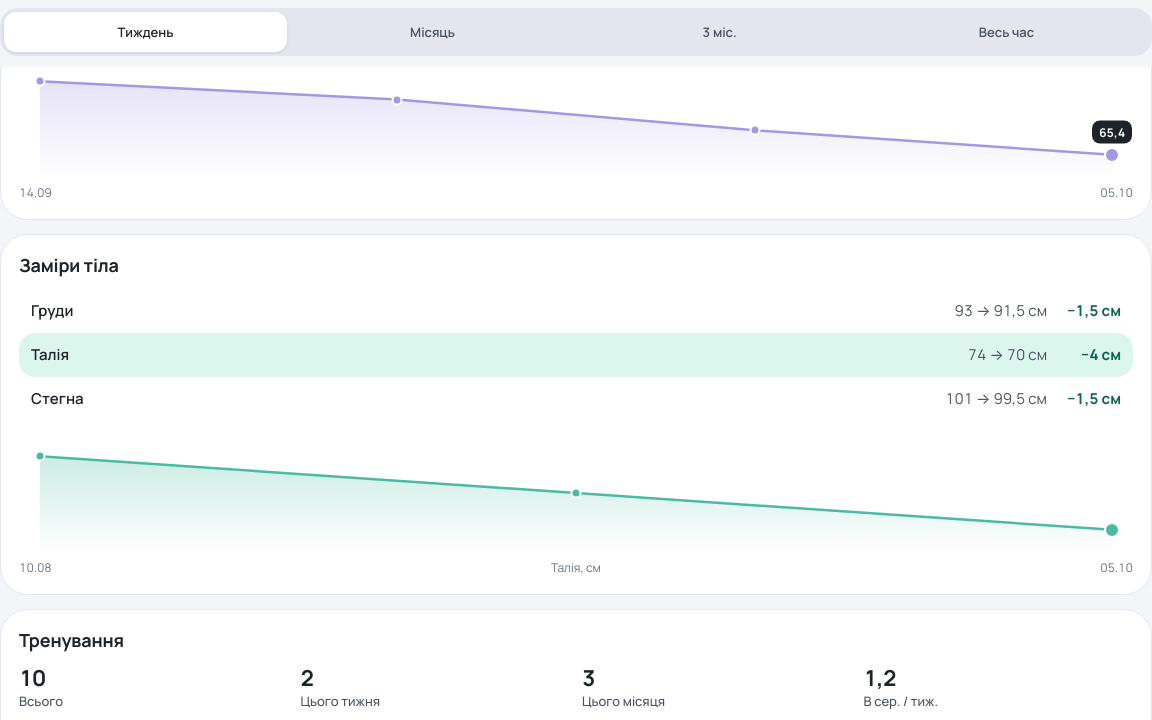
Test: ProgressView — cards › selects the measurement shown in the chart
(page scrolled)
Check: the text "Талія, см" is shown, box [551,559,601,576]
Click the button "Стегна 101 → 99,5 см −1,5 см" at coordinates (57, 399), box [19,377,1133,421]
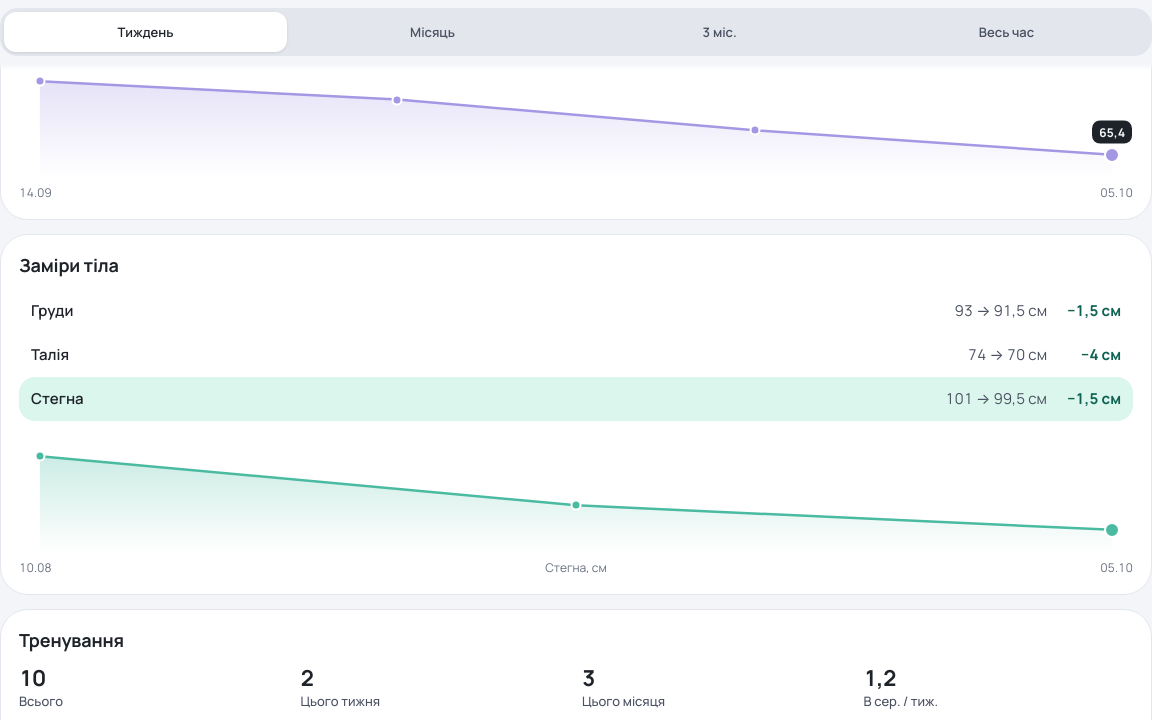
Check: the picture named "Стегна: з 10 серпня" is shown, box [19,433,1133,576]
Check: the text "Стегна, см" is shown, box [545,559,607,576]
